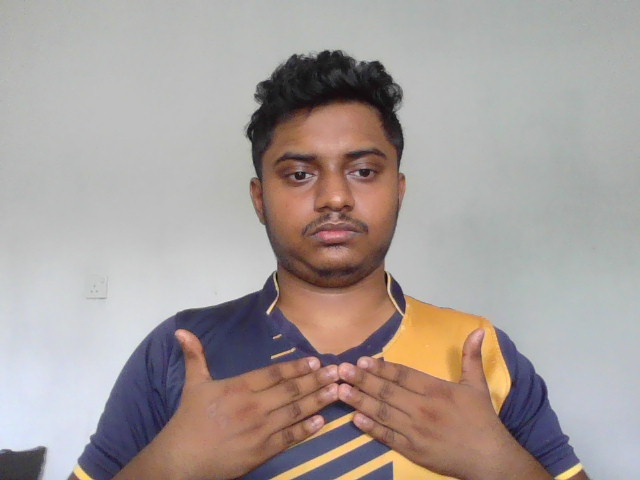Thank You: (164, 326, 510, 475)
